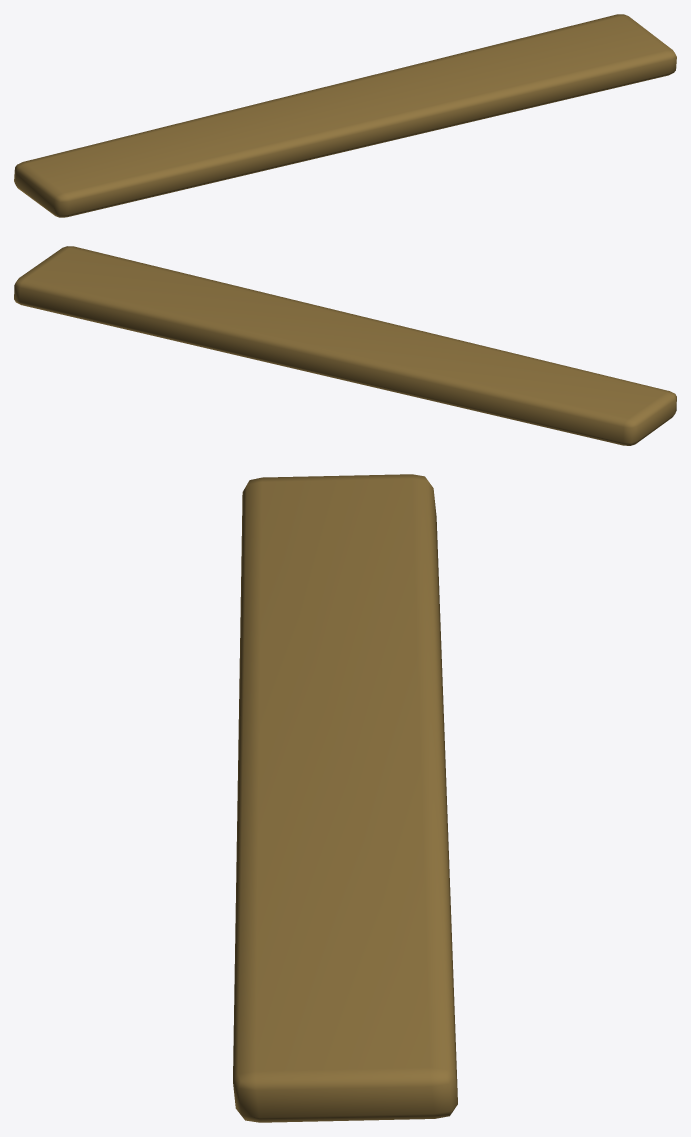
Rendered from Plank.fbx.
The picture shows the model from 3 angles, top to bottom: view 1: azimuth 30°, elevation 25°; view 2: azimuth 150°, elevation 25°; view 3: azimuth 270°, elevation 25°; orthographic projection. The views are drawn at different scales.
Visible parts, largest first — view 1: HighResTRack.022; view 2: HighResTRack.022; view 3: HighResTRack.022.
Boxes of the visible parts, x1,y1,x2,y2 form: HighResTRack.022: (14, 14, 676, 217); HighResTRack.022: (14, 246, 676, 445); HighResTRack.022: (233, 474, 457, 1122).
Bounding box in the file's own units: 1226 × 53.02 × 194.
